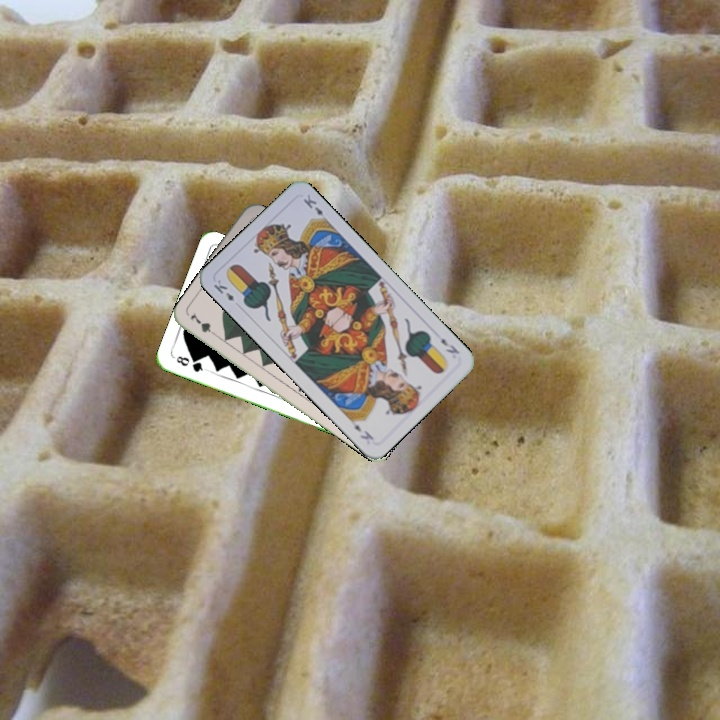EK: (210, 275, 237, 304), (437, 334, 462, 357)
G7: (186, 309, 221, 340)
G8: (172, 352, 210, 375)
